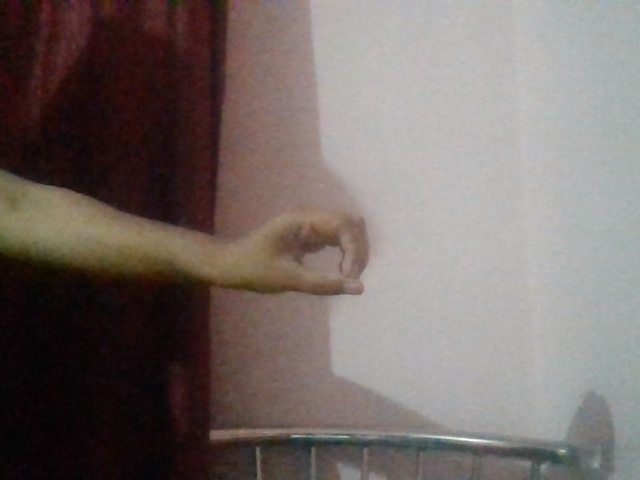O: (182, 166, 469, 345)
